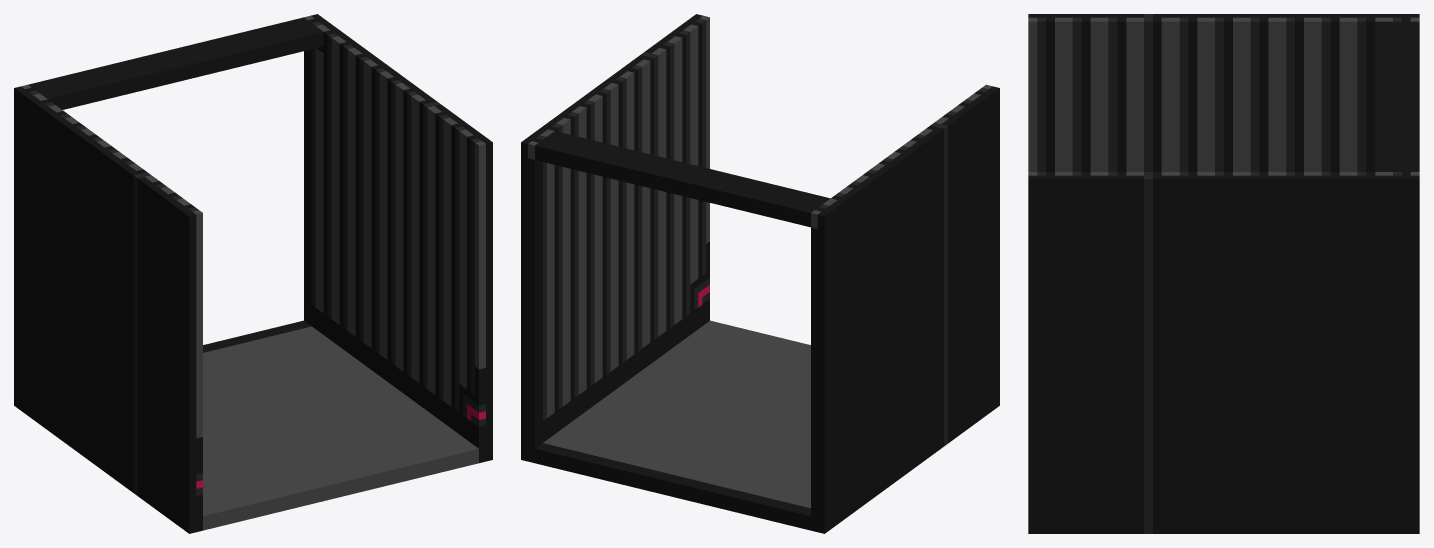
Rendered from mesh_stairway_5.obj.
3 renders of one model, left to right at view 1: azimuth 30°, elevation 25°; view 2: azimuth 150°, elevation 25°; view 3: azimuth 270°, elevation 25°, orthographic. The views are drawn at different scales.
Size of the model in its own units: 4.4 by 4.4 by 4.4.
1 material, 1 textured.
